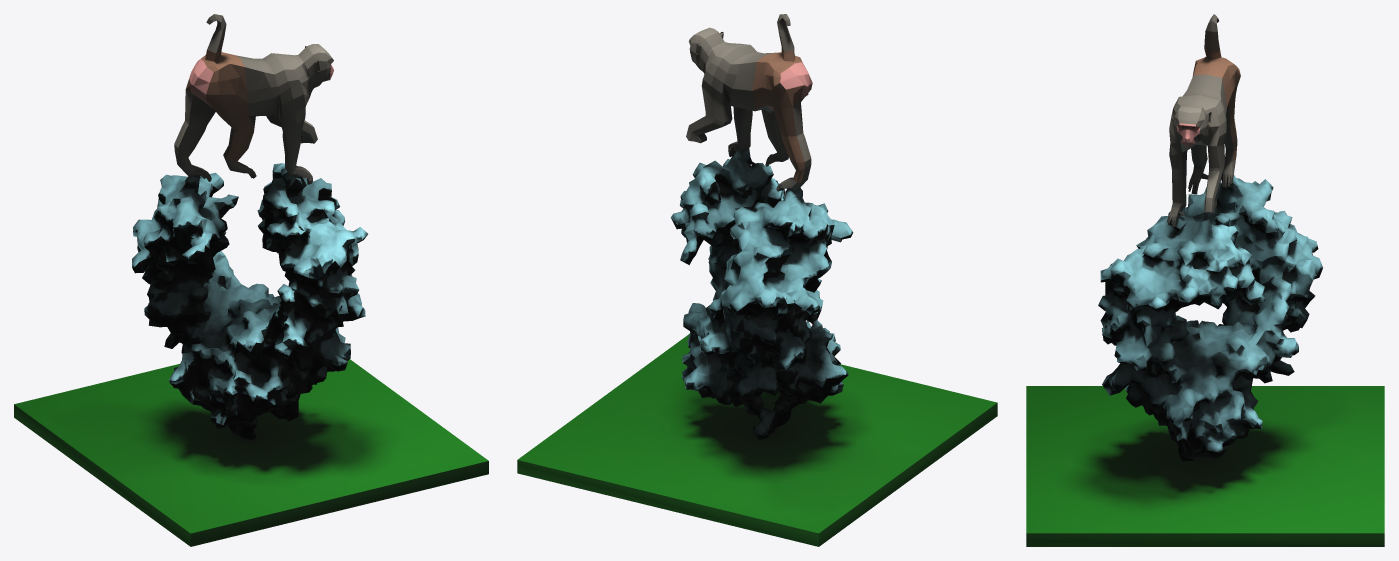
Rendered from rhesus-rh.glb.
The picture shows the model from 3 angles, left to right: view 1: azimuth 30°, elevation 25°; view 2: azimuth 150°, elevation 25°; view 3: azimuth 270°, elevation 25°; orthographic projection.
Bounding box in the file's own units: 1.17 × 1.64 × 1.2.
Materials: 2 (2 with a texture image).
